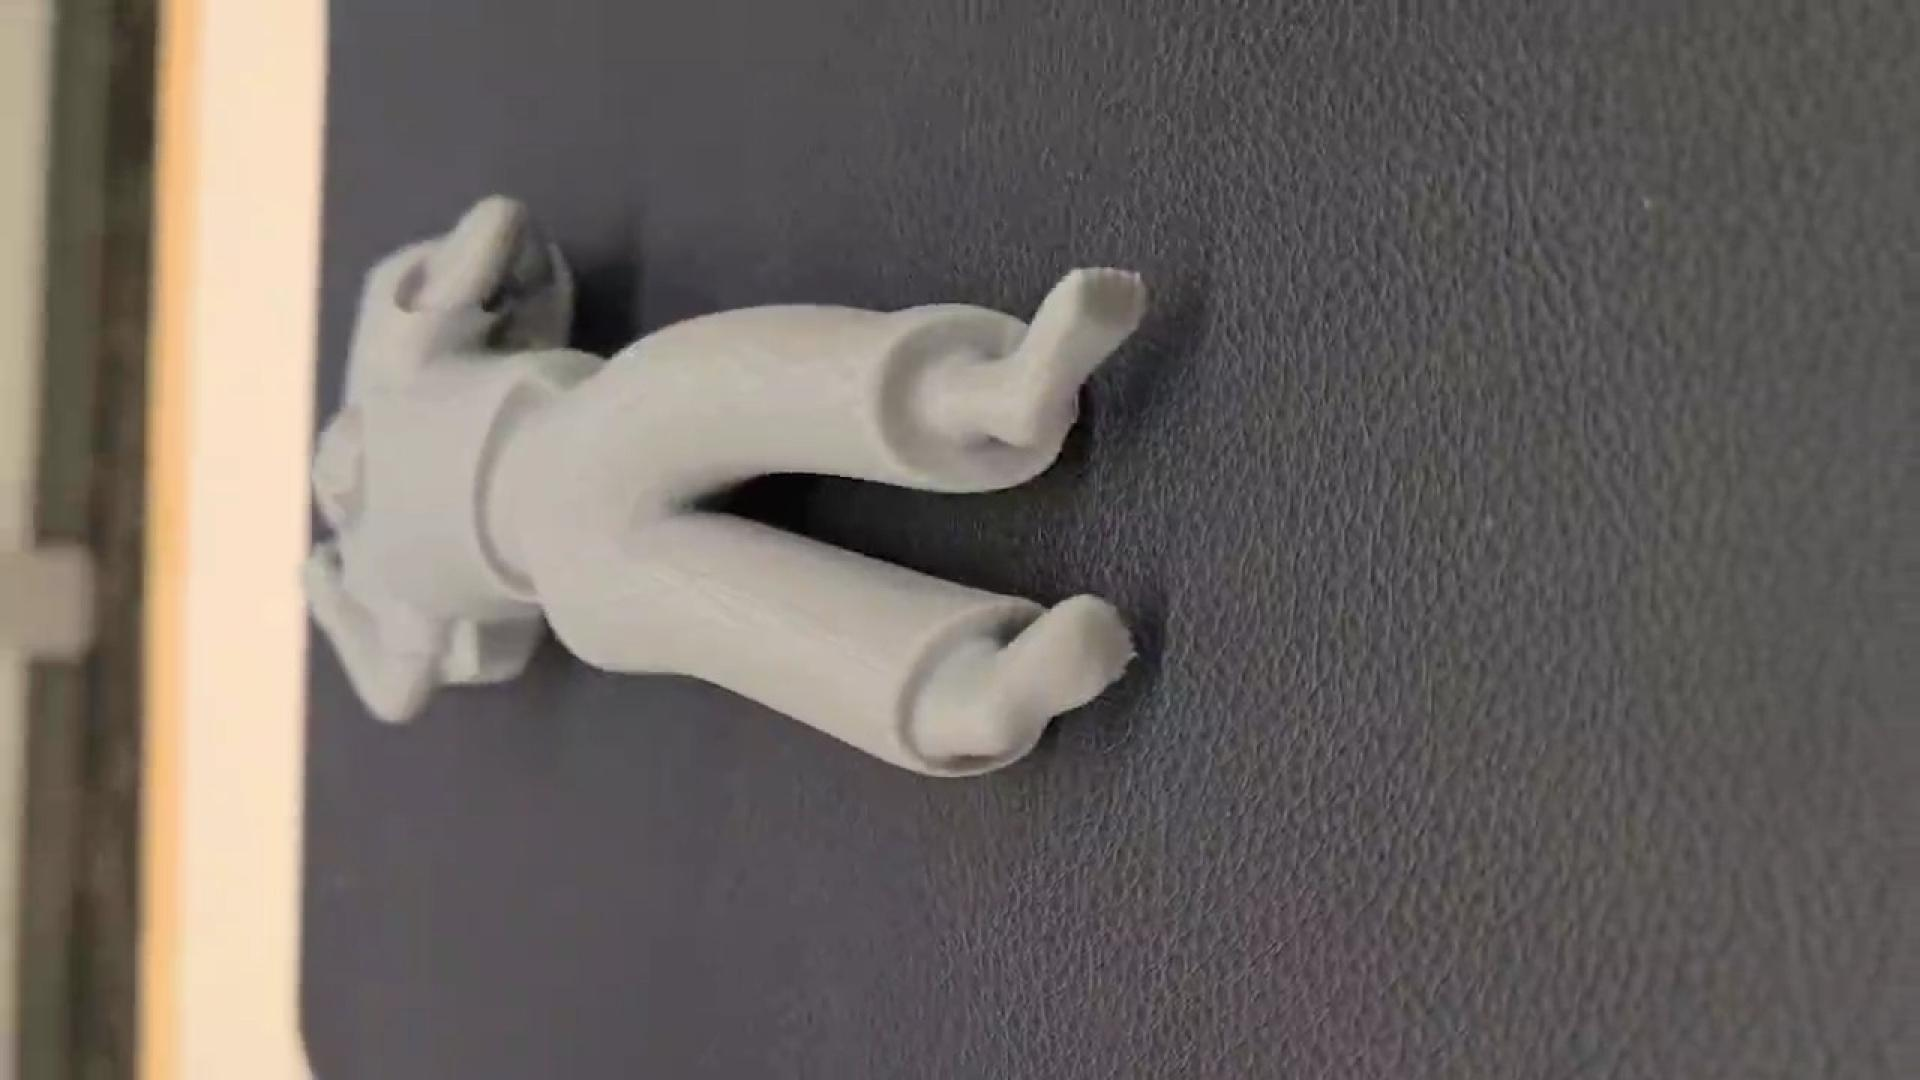Bad-style: (305, 193, 1151, 785)
